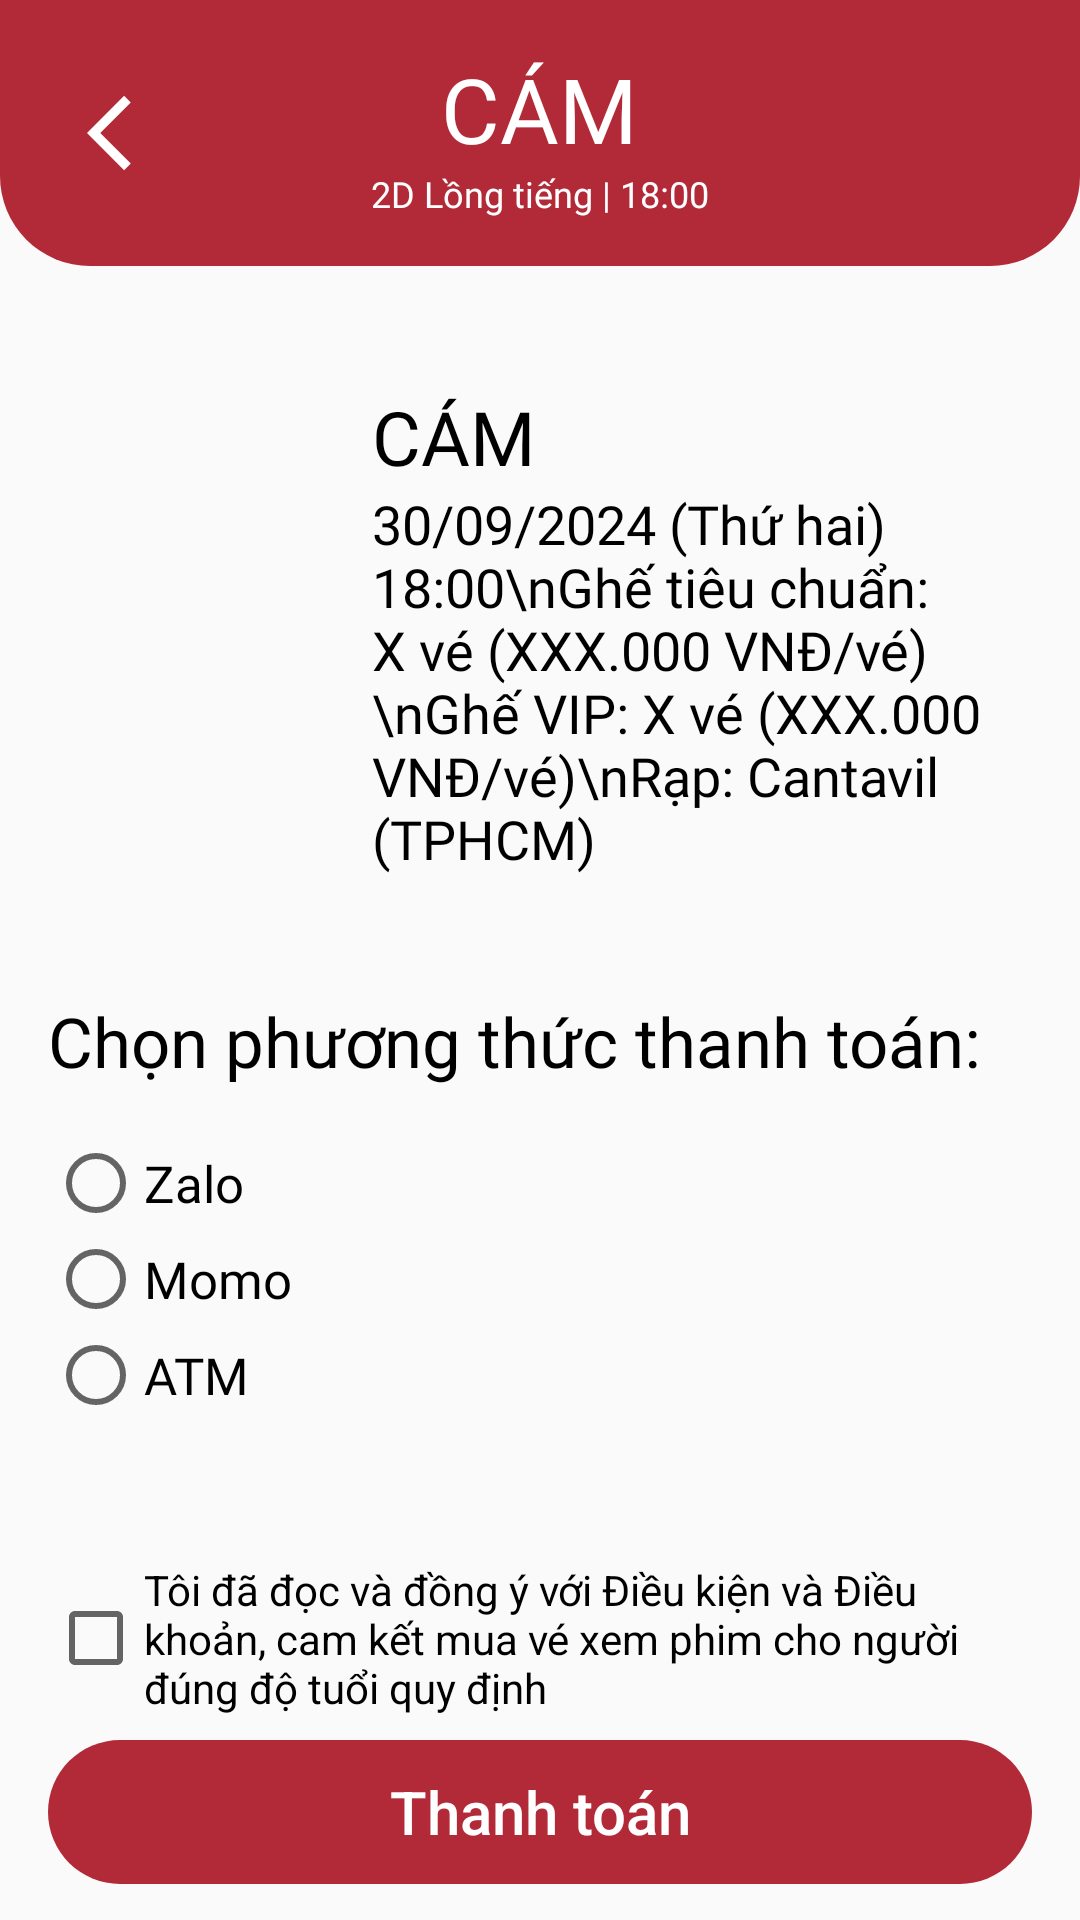

Screen size 1080w x 1920h. Icon name, then its center in pixels as (x,y):
back arrow: (109,133)
